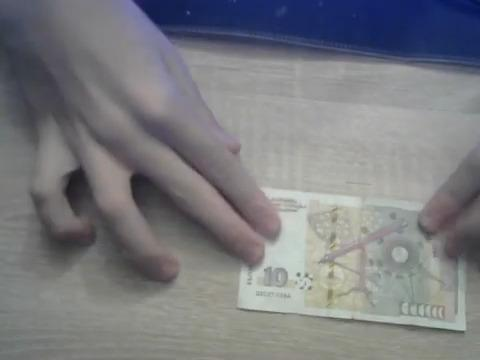10leva: (235, 189, 464, 332)
